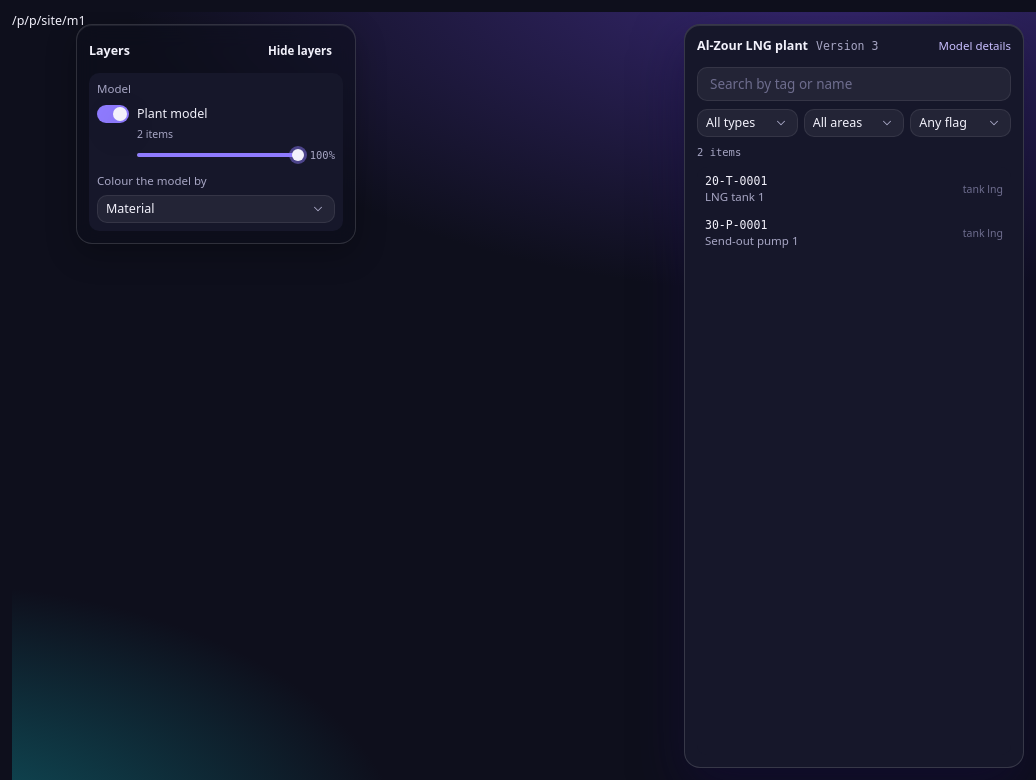
Test: SitePanels › a register pick that the engine echoes back opens the item once, without a loop (S3-9 minor 3)
The image size is (1036, 780).
Click the button "20-T-0001 LNG tank 1 tank lng" at [736, 181], box [697,167,1011,211]
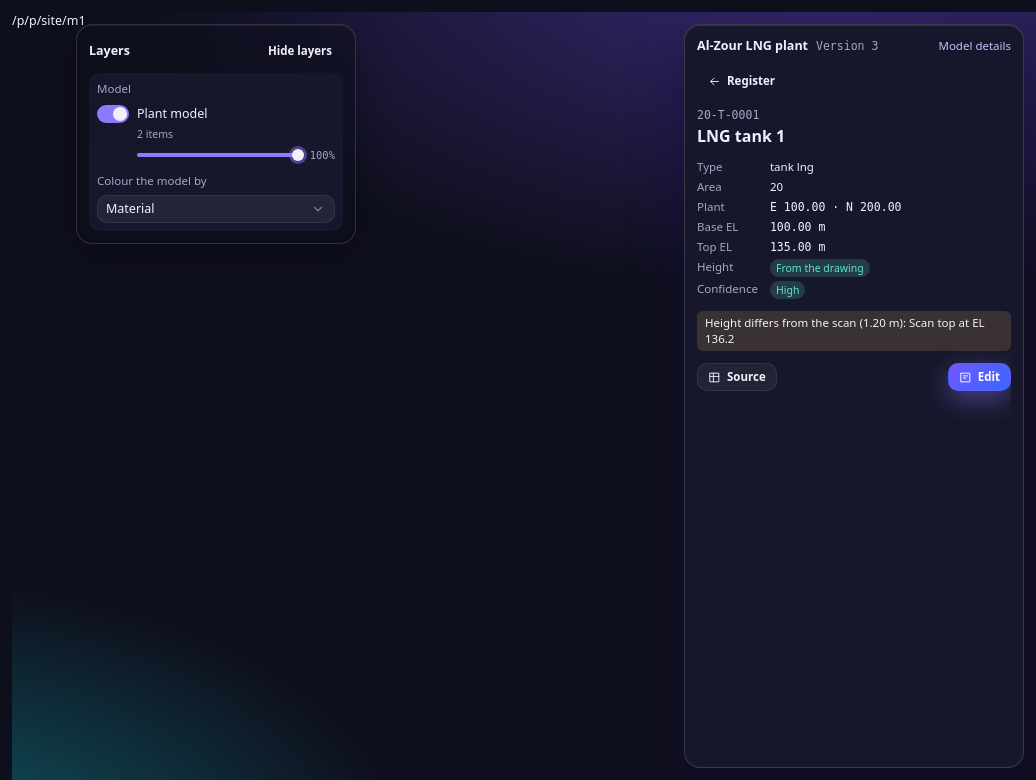
Check: the heading "LNG tank 1" is shown, box [697,125,785,147]
Click the button "Register" at [741, 81], box [697,67,786,95]
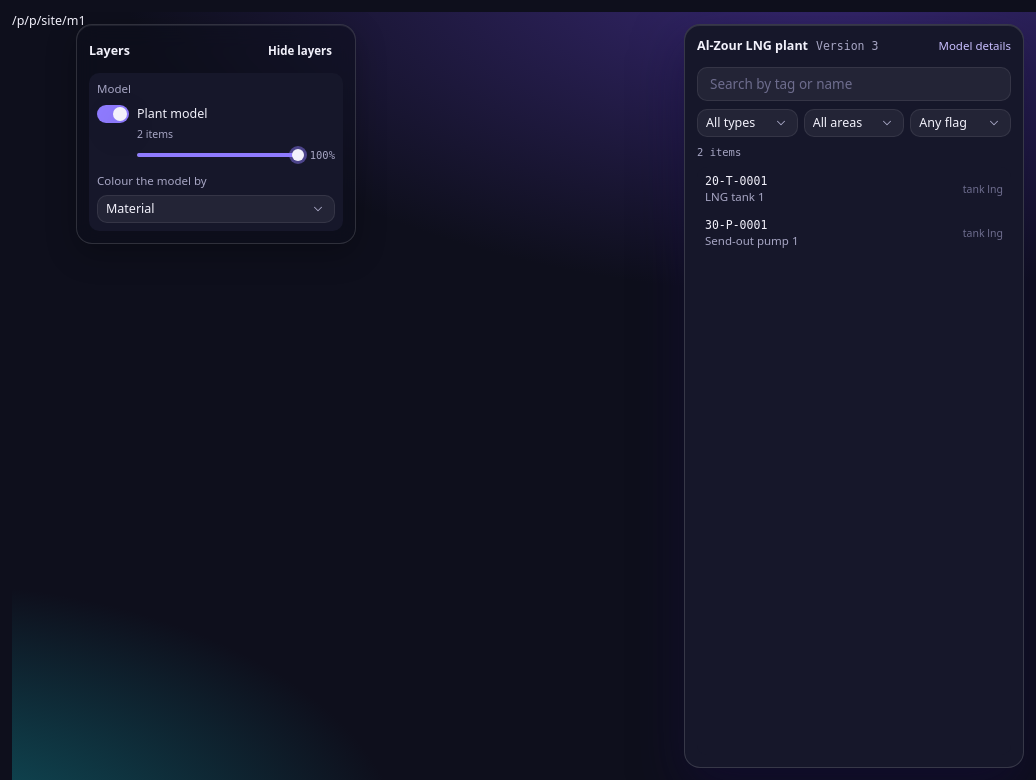
Check: the button "20-T-0001 LNG tank 1 tank lng" is shown, box [697,167,1011,211]
